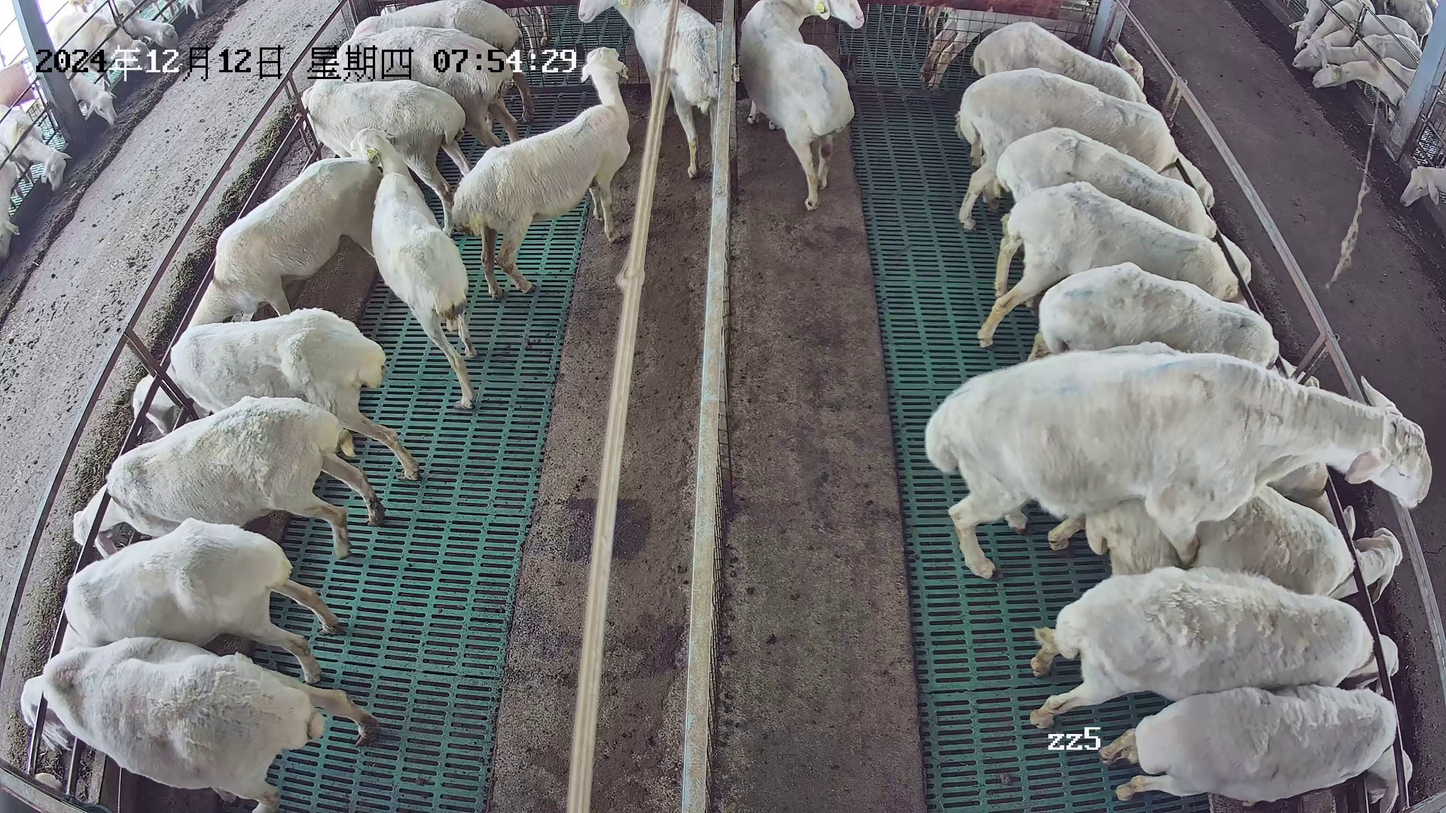Smounting: (923, 348, 1434, 607)
mounted: (1082, 479, 1405, 605)
